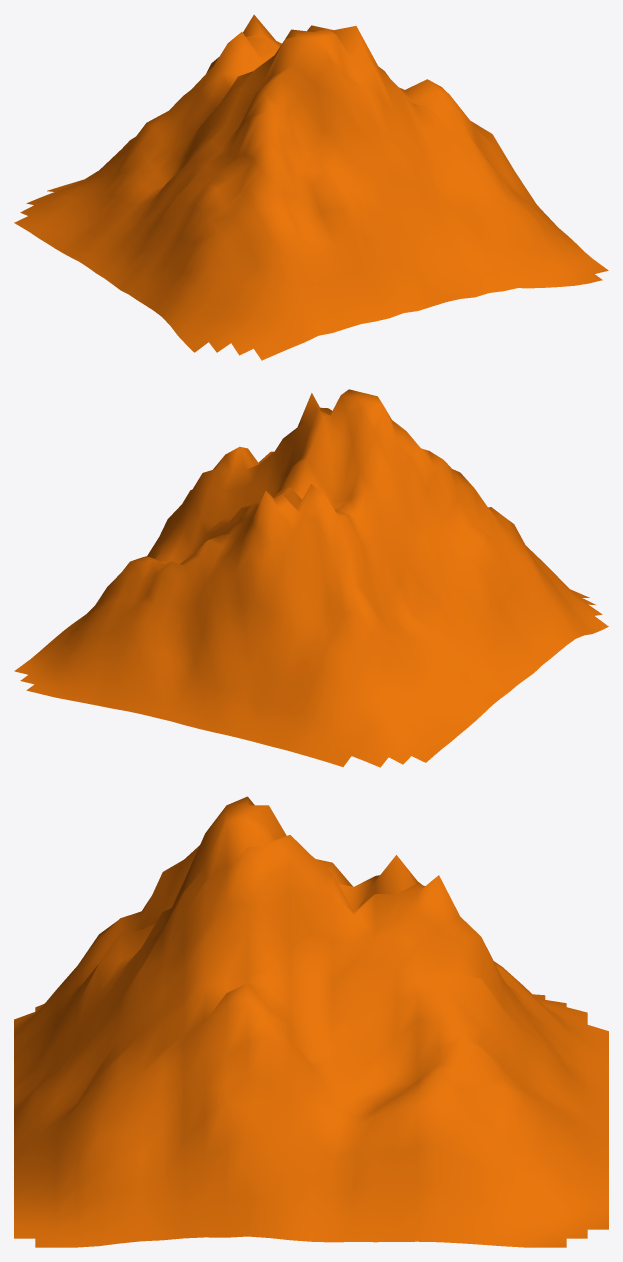
Rendered from montain1.fbx.
3 views of the same model, one above another, from view 1: azimuth 30°, elevation 25°; view 2: azimuth 150°, elevation 25°; view 3: azimuth 270°, elevation 25° (orthographic). The views are drawn at different scales.
Parts seen in each view (by area): view 1: Landscape.001; view 2: Landscape.001; view 3: Landscape.001.
Boxes of the visible parts, left/top/right/bottom form: Landscape.001: left=14, top=14, right=608, bottom=360; Landscape.001: left=14, top=389, right=608, bottom=767; Landscape.001: left=14, top=796, right=608, bottom=1247.
Bounding box in the file's own units: 181 × 100 × 181.
